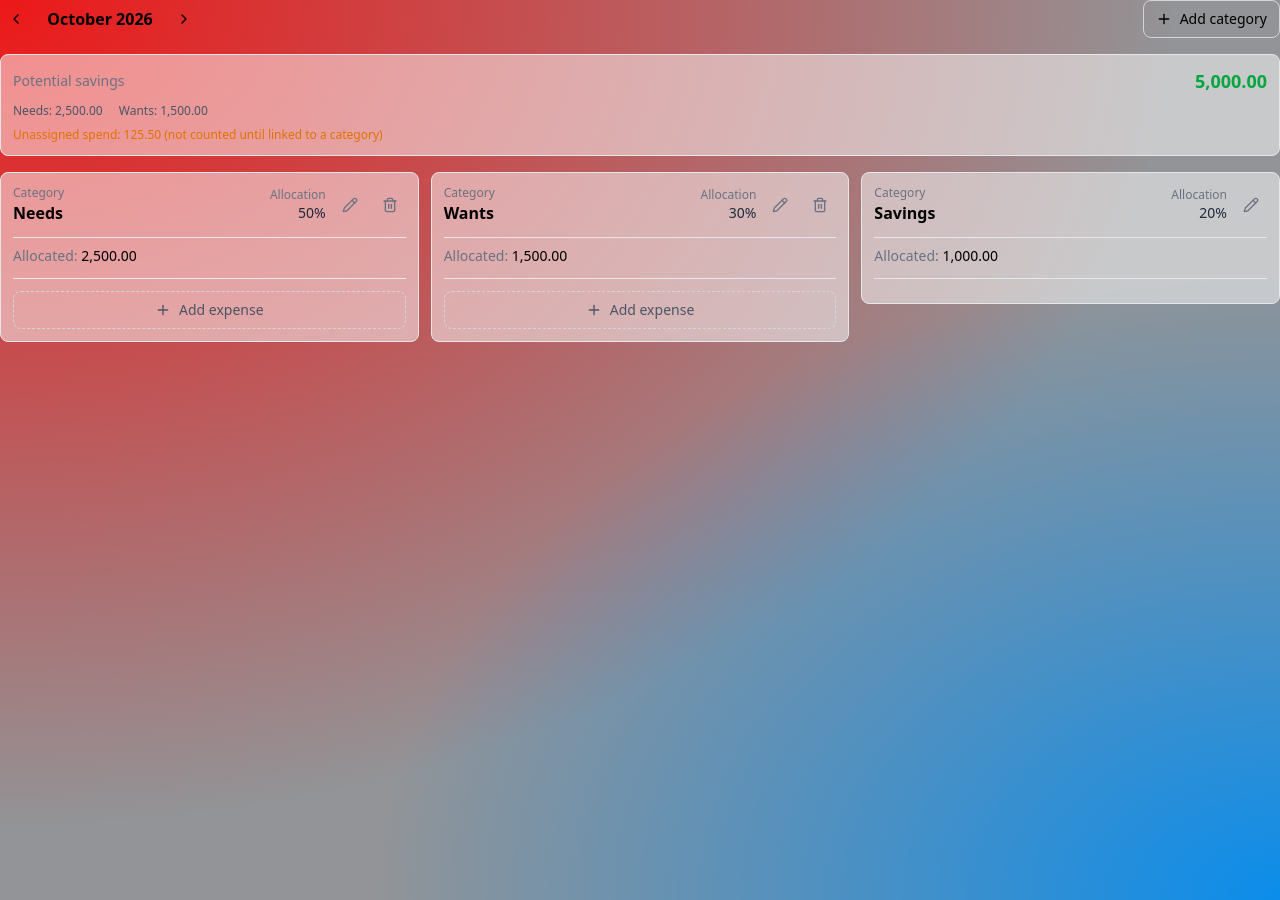
BudgetPlanner › fills available width automatically and edits the name and percentage in the category modal
Expected: the field labelled "Category name" is not shown
Click the button named "Edit Needs" at (350, 205), box [334,189,366,221]
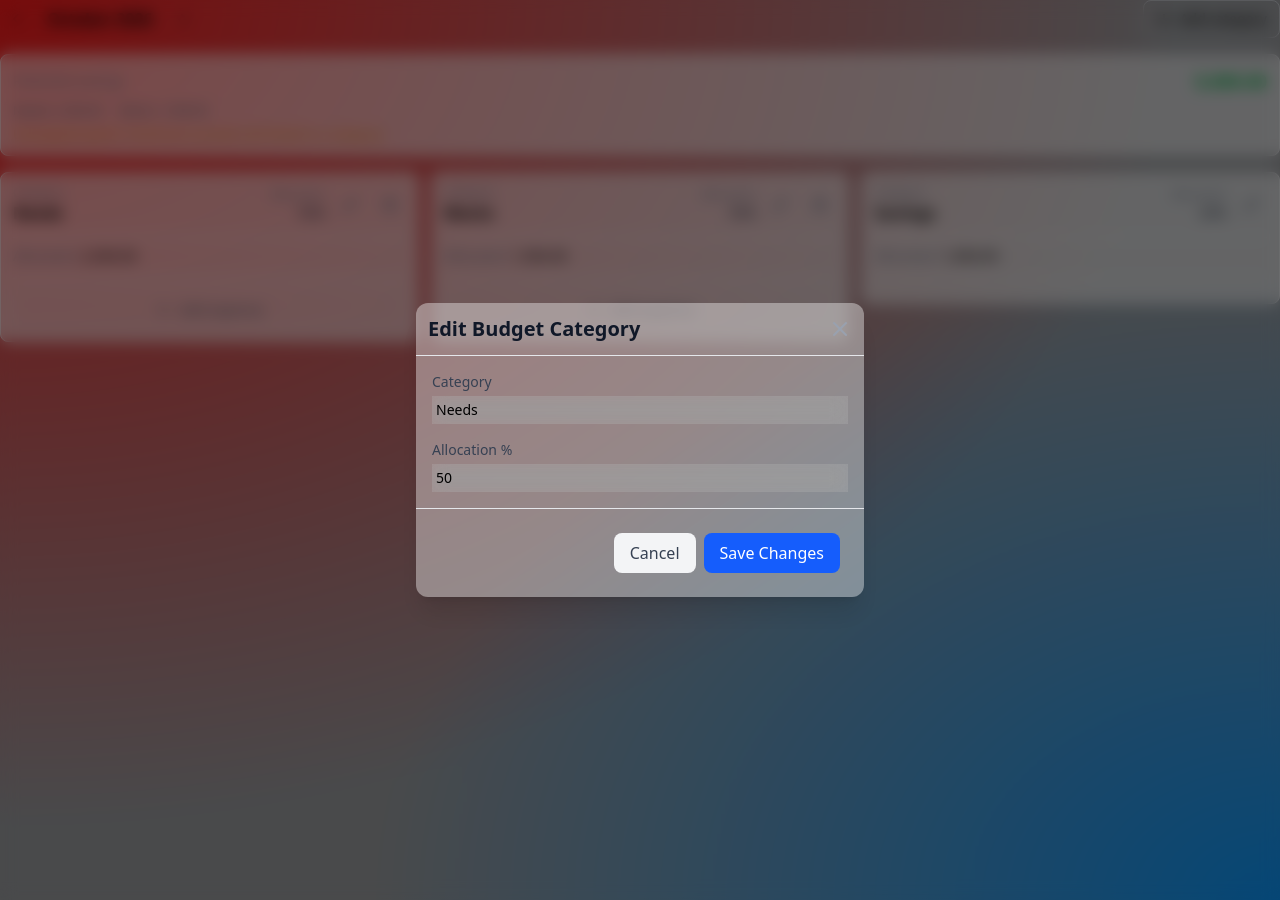
Expected: the field named "Category name" holds "Needs"
Expected: the number field named "Allocation percentage" holds "50", [432,464,848,492]
Replace the text in the field named "Category name" with "Essentials" at (640, 410), box [432,396,848,424]
Replace the text in the number field named "Allocation percentage" with "55" at (640, 478), box [432,464,848,492]
Click the button "Save Changes" at (772, 553), box [704,533,840,573]
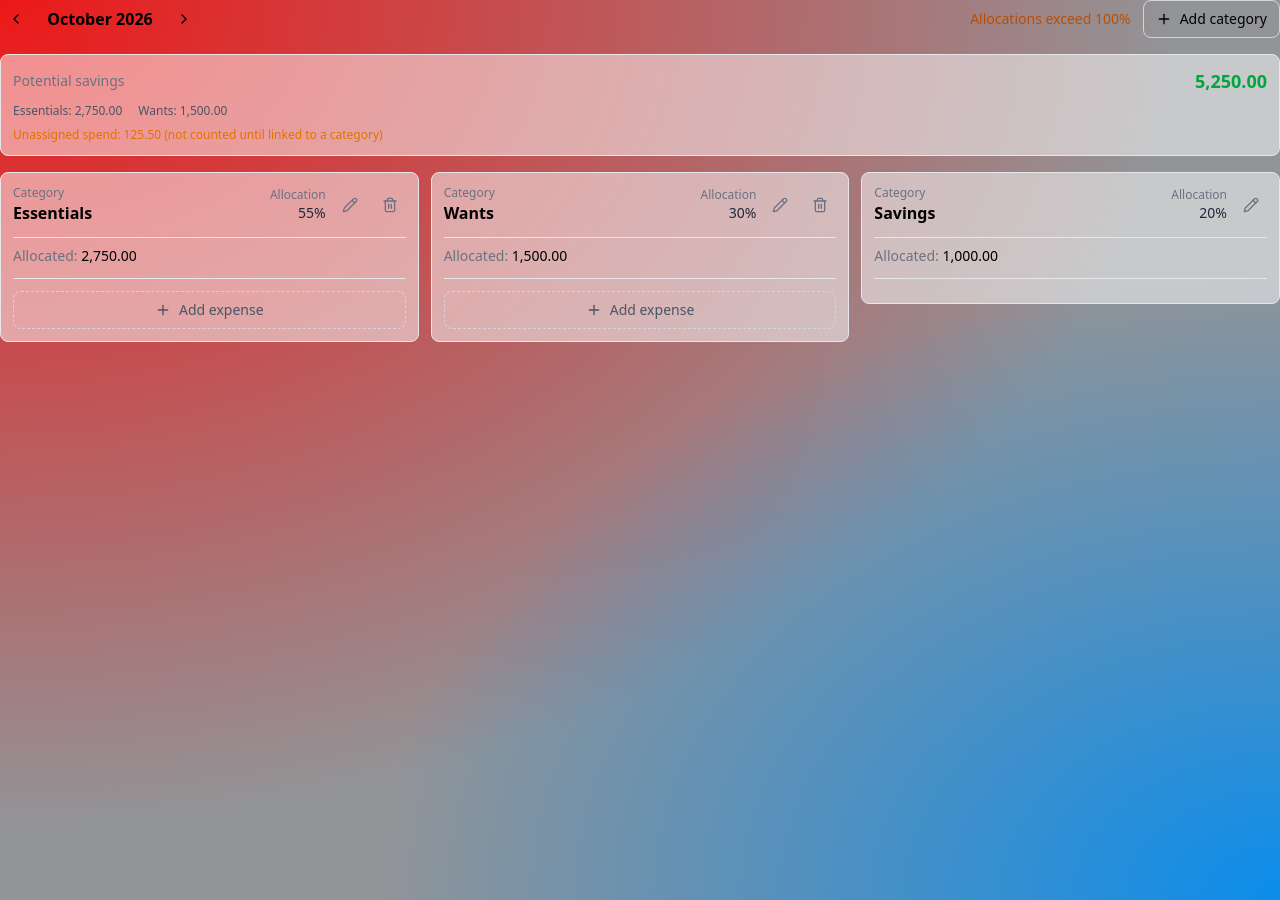
Expected: the heading "Essentials" is shown, [13,202,92,224]
Expected: the text "55%" is shown, [298,203,326,222]
Click the button "Add category" at (1211, 19), box [1143,0,1279,38]
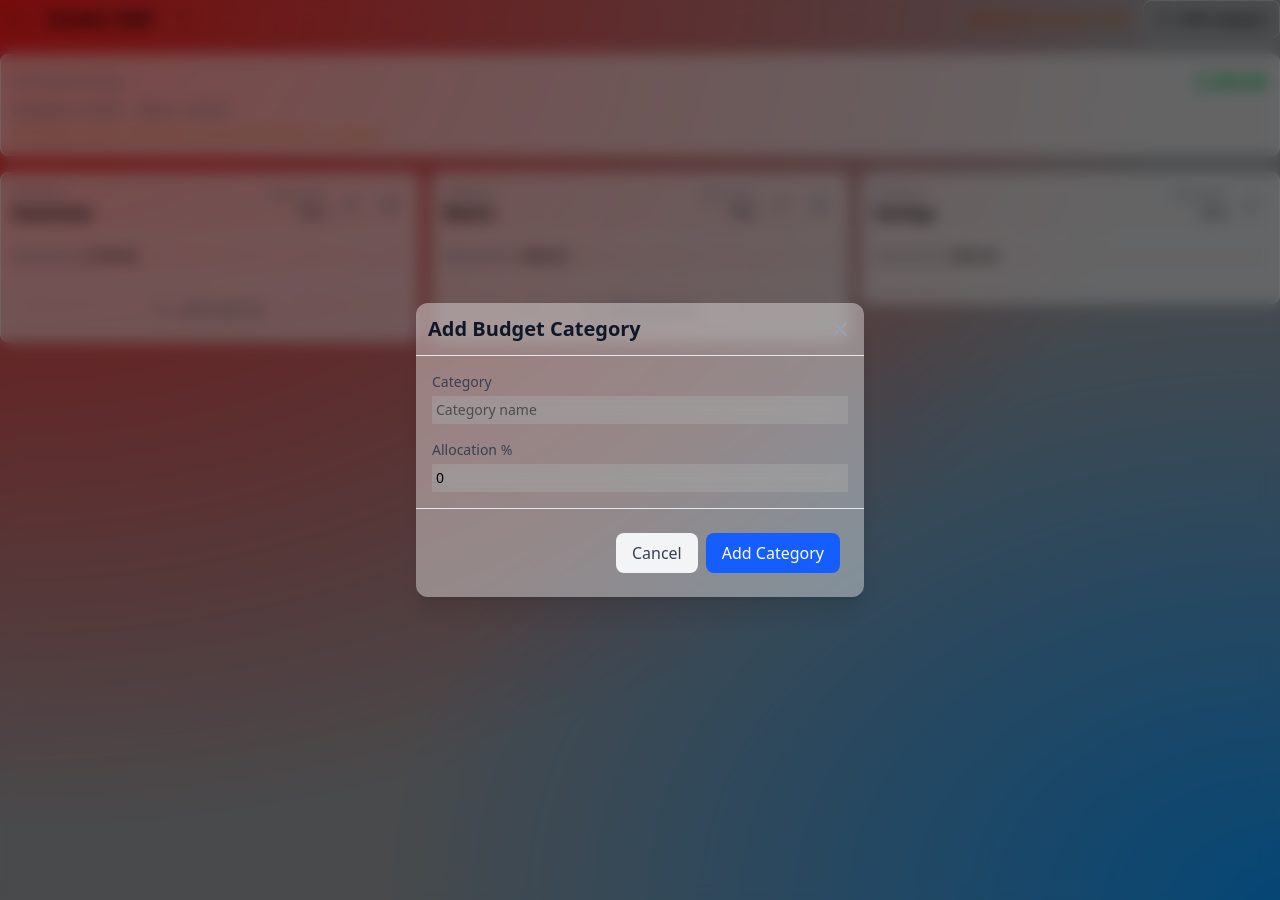
Expected: the field named "Category name" is shown
Type "Travel" into the field named "Category name" at (640, 410), box [432,396,848,424]
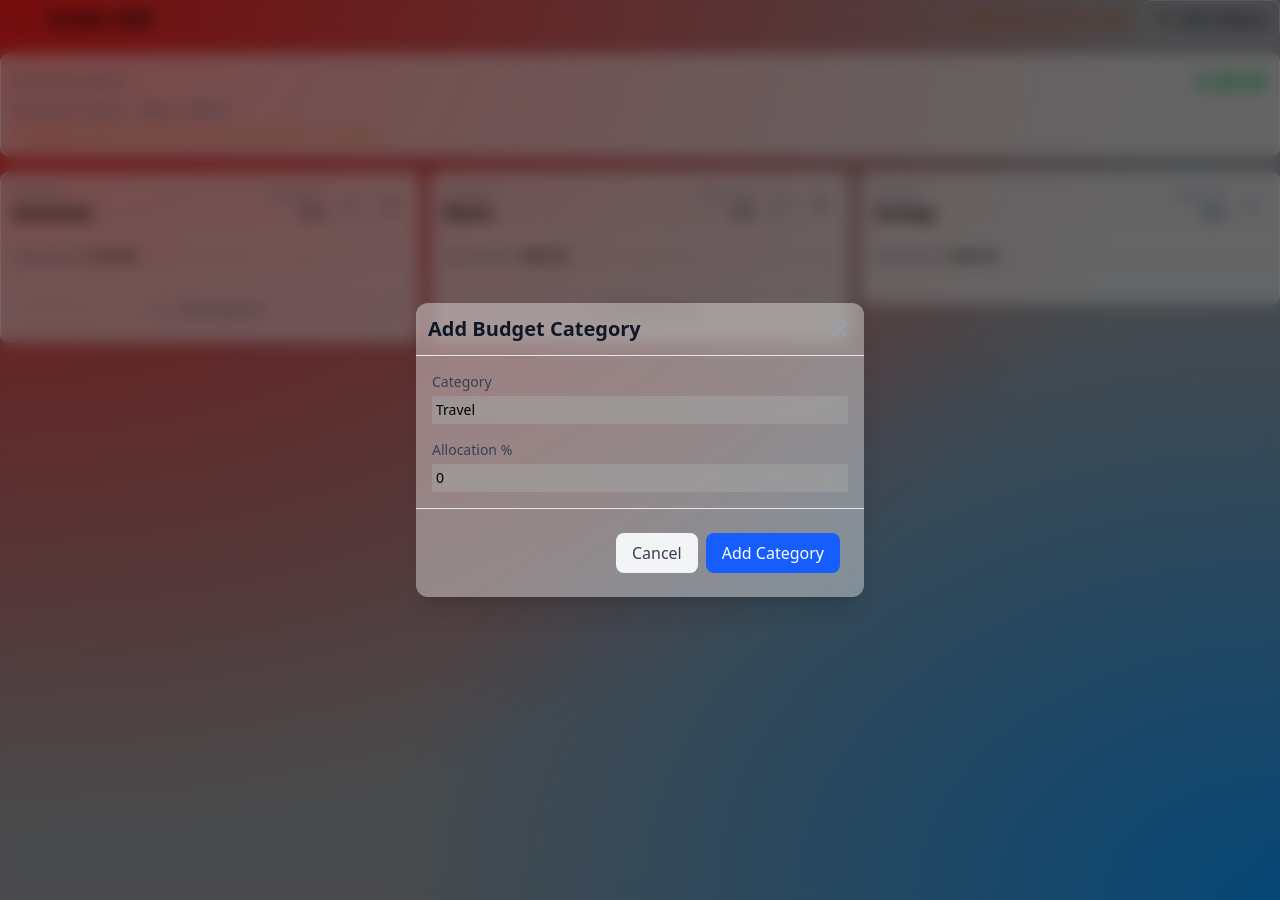
Replace the text in the number field named "Allocation percentage" with "10" at (640, 478), box [432,464,848,492]
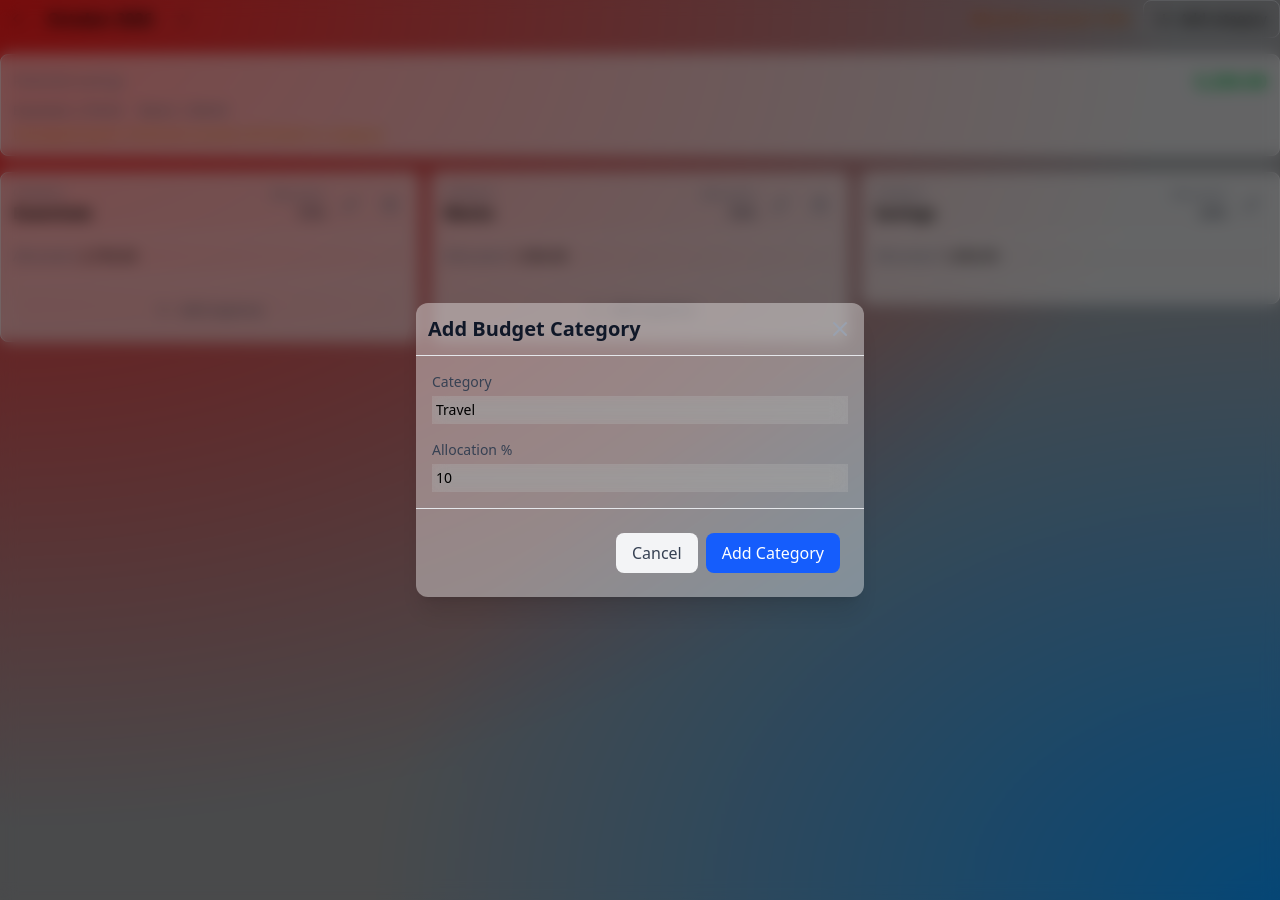
Click the button "Add Category" at (773, 553), box [706,533,840,573]
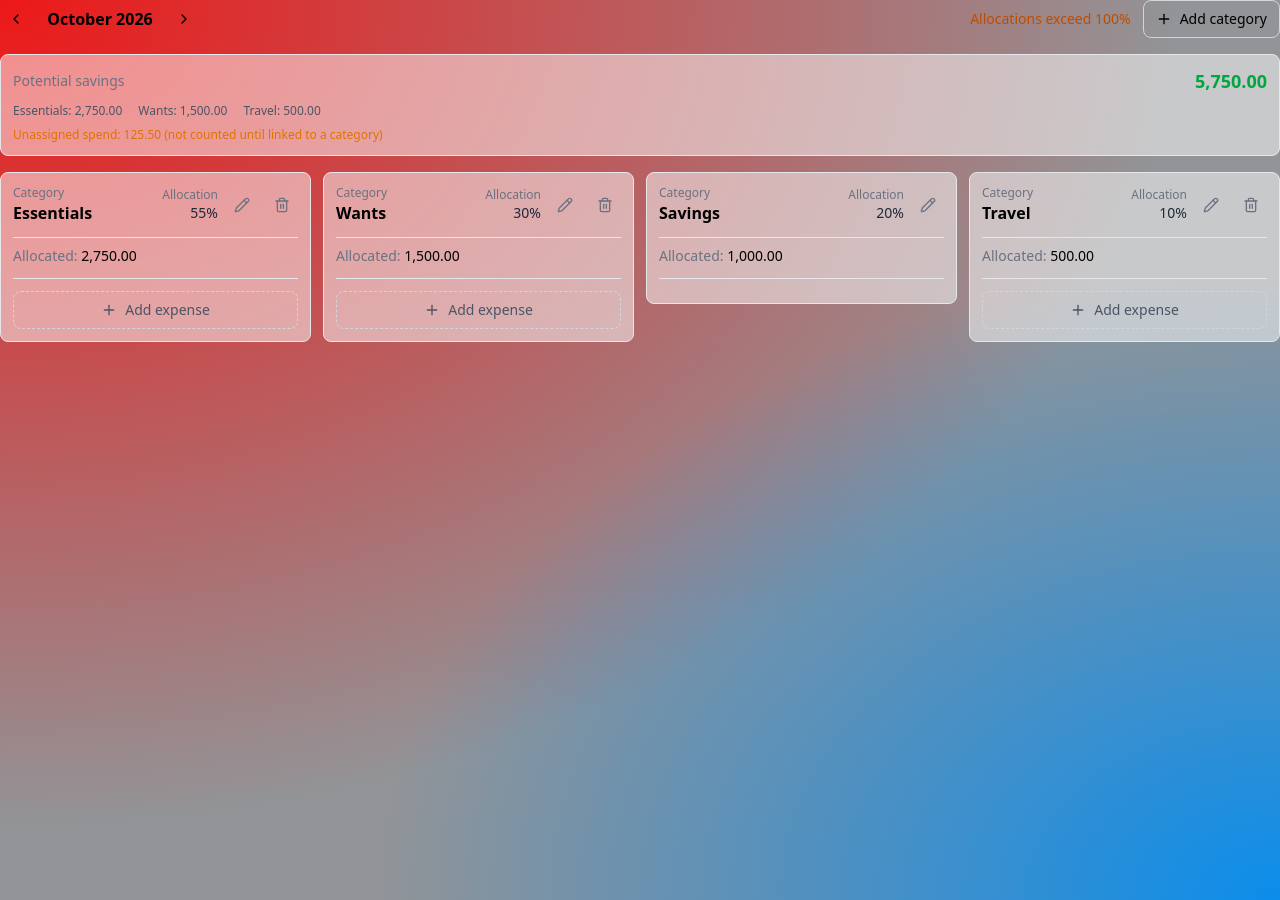
Expected: the heading "Travel" is shown, [982,202,1030,224]
Expected: the text "10%" is shown, [1159,203,1187,222]
